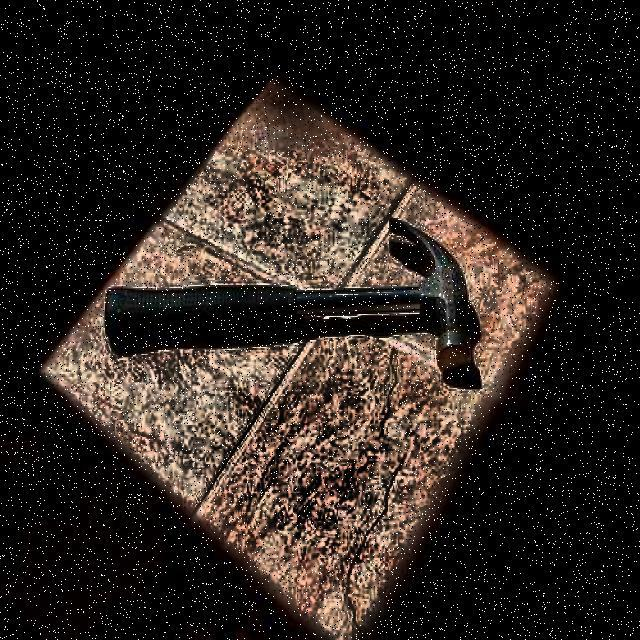hammer: (104, 218, 476, 376)
